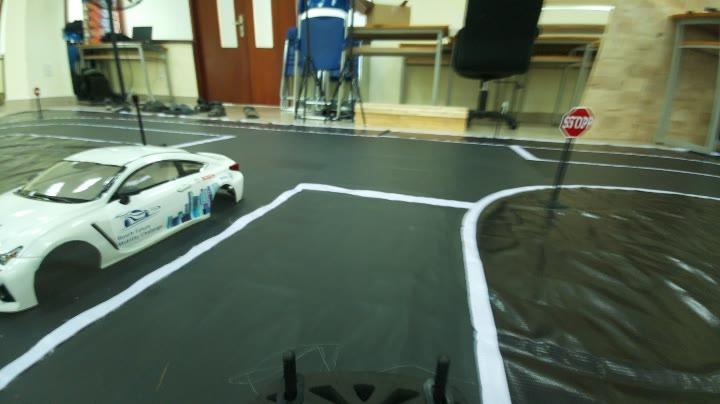car: (5, 153, 252, 314)
stop: (554, 102, 596, 146)
